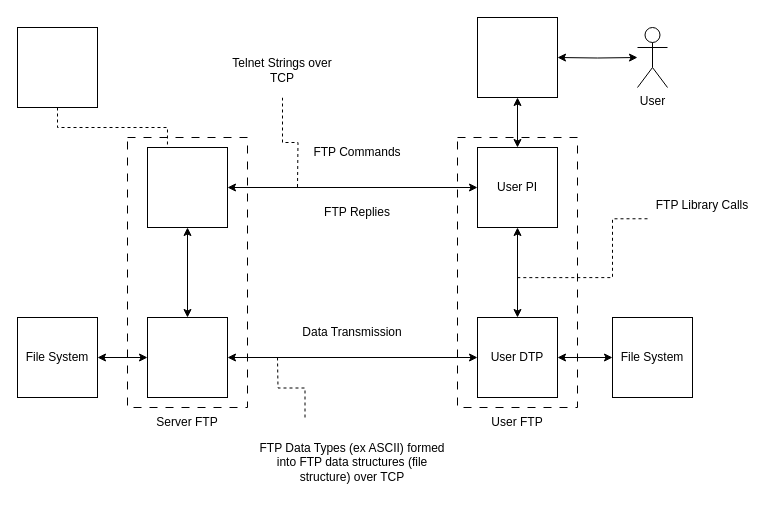
Some shapes in this 775 by 525 pixel diagram are drawn without their labels. The centre of each missing label's shape, as x and y in pixels:
"Server DTP" belongs at point 187,357.
"Server PI" belongs at point 187,187.
"User Authentication" belongs at point 57,67.
"User Interface" belongs at point 517,57.
